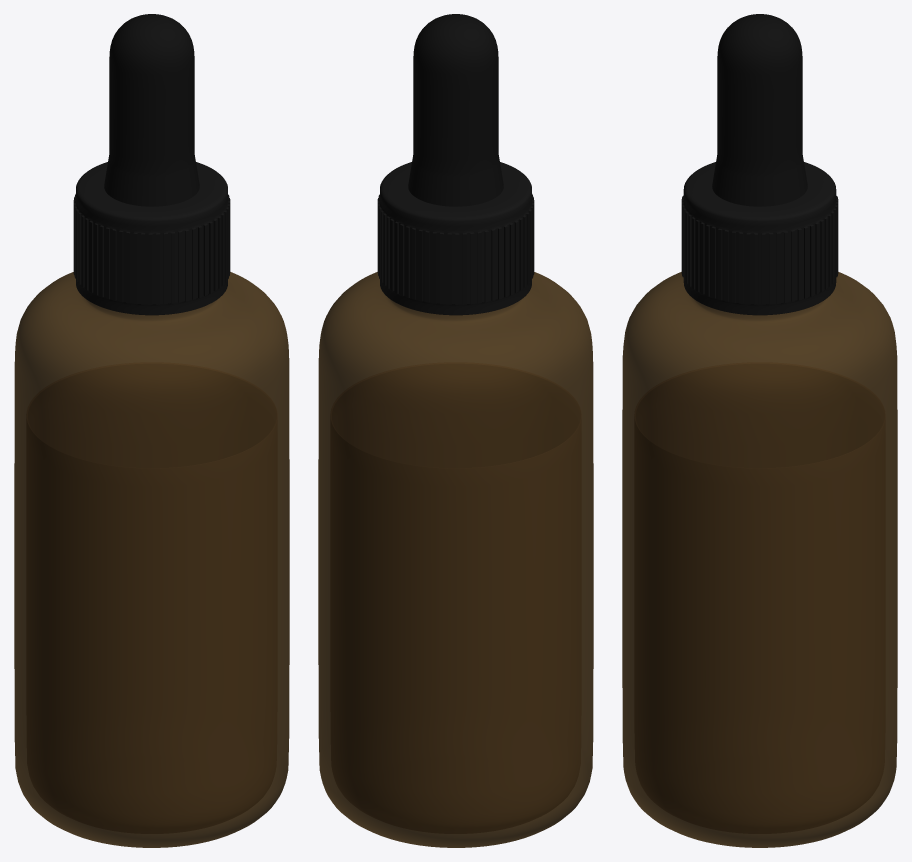
3 views of the same model, side by side, from view 1: azimuth 30°, elevation 25°; view 2: azimuth 150°, elevation 25°; view 3: azimuth 270°, elevation 25° (orthographic).
Parts seen in each view (by area): view 1: Bottle.000, liquid, sucker, rubber; view 2: Bottle.000, liquid, sucker, rubber; view 3: Bottle.000, liquid, sucker, rubber.
Part boxes in pixels (x1=…): Bottle.000: x1=14, y1=272, x2=289, y2=847; liquid: x1=26, y1=362, x2=277, y2=833; sucker: x1=73, y1=162, x2=230, y2=315; rubber: x1=104, y1=14, x2=199, y2=206; Bottle.000: x1=318, y1=272, x2=593, y2=847; liquid: x1=330, y1=362, x2=581, y2=833; sucker: x1=377, y1=162, x2=534, y2=315; rubber: x1=408, y1=14, x2=503, y2=206; Bottle.000: x1=622, y1=272, x2=897, y2=847; liquid: x1=634, y1=362, x2=885, y2=833; sucker: x1=681, y1=162, x2=838, y2=315; rubber: x1=712, y1=14, x2=807, y2=206.
Size of what is drawn, in the model's own units: 0.5948 by 1.88 by 0.5948.
